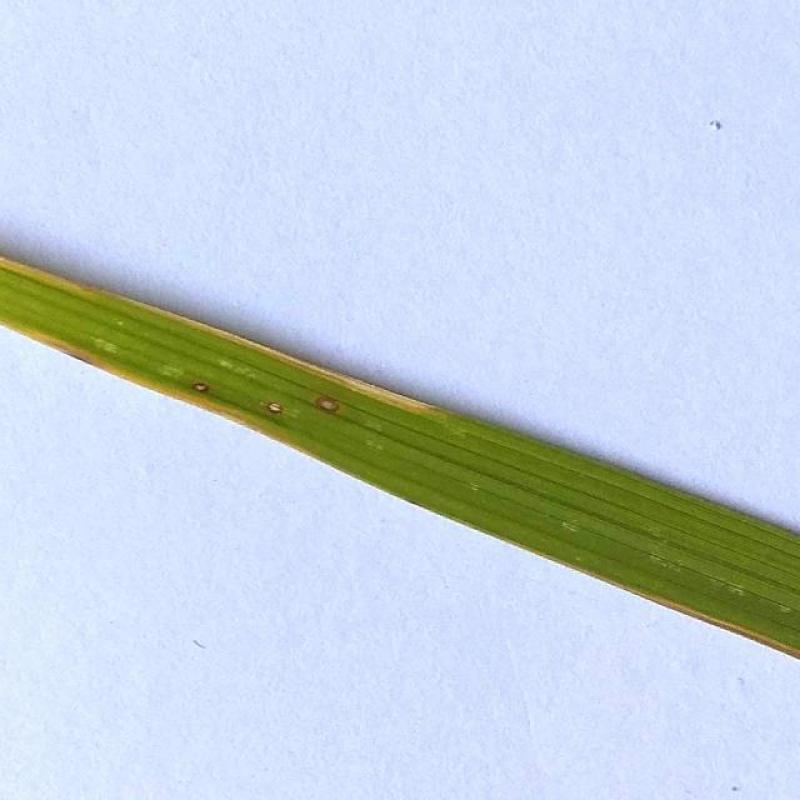Leaf_Blast: (184, 367, 235, 415), (314, 379, 355, 421), (260, 398, 295, 428)
